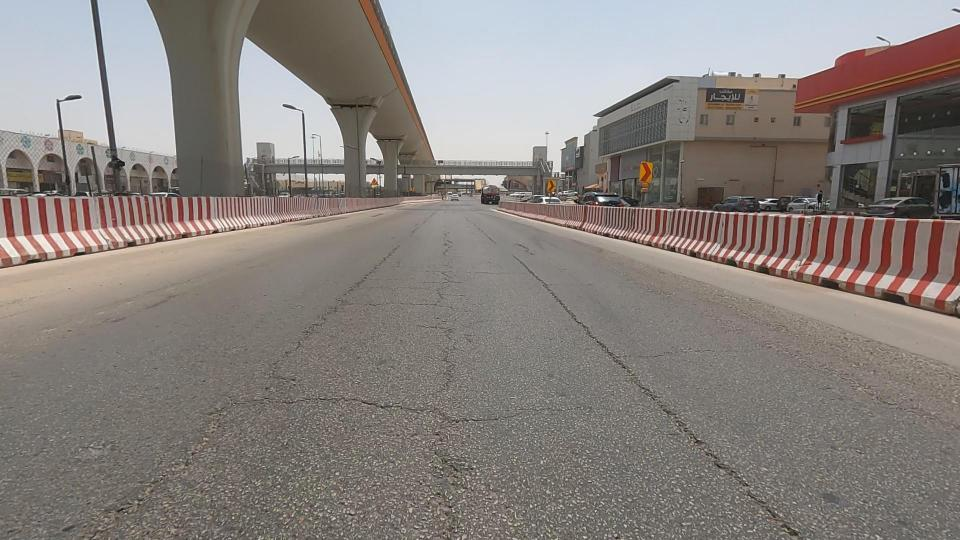CONSTRUCTION_ROAD: (663, 143, 943, 336), (0, 129, 286, 276), (562, 147, 741, 286), (190, 162, 326, 247), (470, 169, 608, 251), (261, 163, 404, 235)
